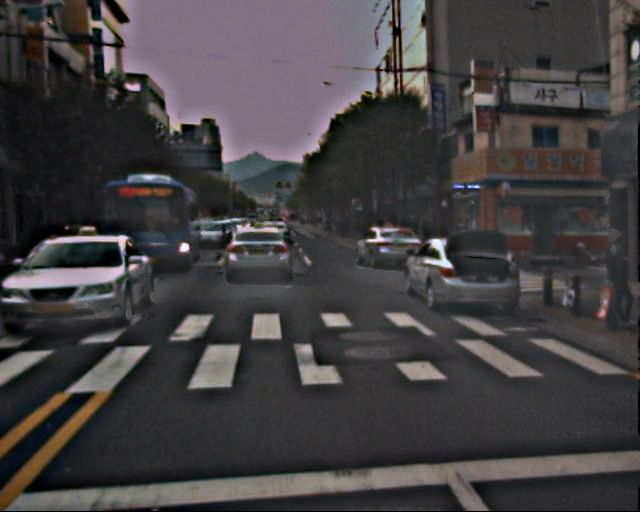person: (595, 233, 640, 328), (528, 219, 548, 260)
